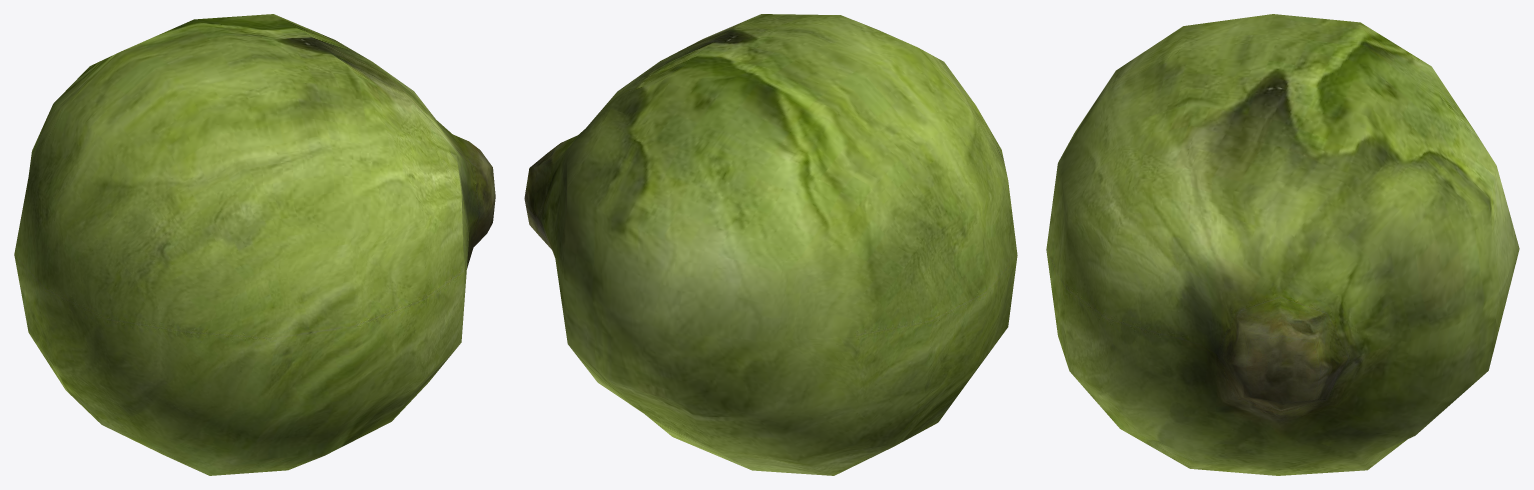
The model's file is lechuga.glb.
3 views of the same model, side by side, from view 1: azimuth 30°, elevation 25°; view 2: azimuth 150°, elevation 25°; view 3: azimuth 270°, elevation 25° (orthographic). The views are drawn at different scales.
Parts seen in each view (by area): view 1: lechuga; view 2: lechuga; view 3: lechuga.
Boxes of the visible parts, x1,y1,x2,y2 form: lechuga: [14, 14, 495, 475]; lechuga: [524, 14, 1017, 475]; lechuga: [1046, 14, 1519, 475].
Size of the model in its own units: 0.2749 by 0.2413 by 0.2502.
1 material, 1 textured.
